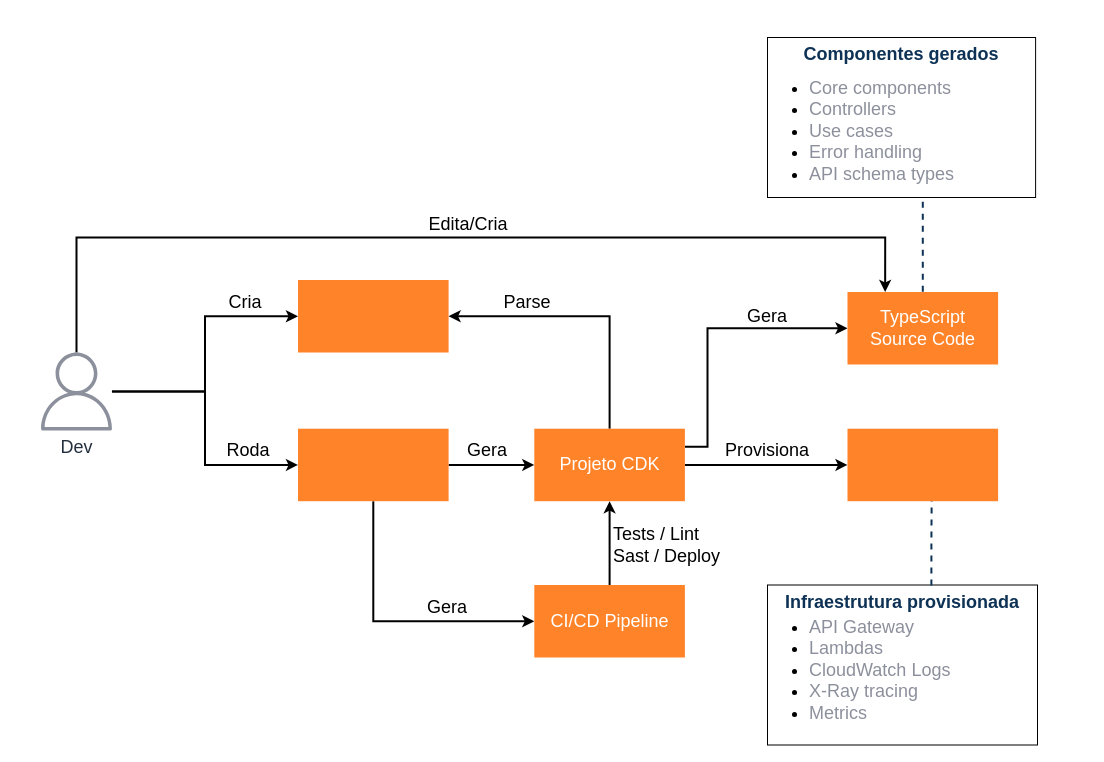
This 1104x762 diagram has some shape labels left out. The shapes that lost their labels are listed below. From the top down, each one's box as (x1, y1, x2, y2) in pixels, then its label:
(298, 280, 448, 352): OpenAPI specification
(298, 428, 448, 501): OrangeStack CLI
(847, 428, 998, 501): Infraestrutura
